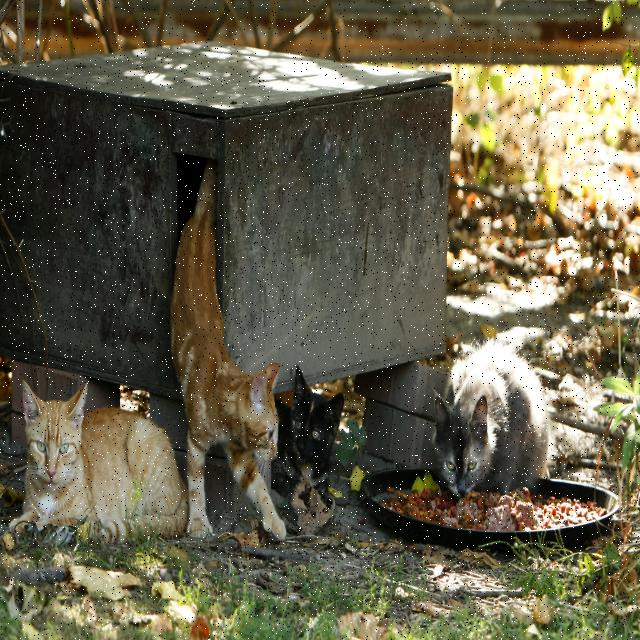cat: (170, 161, 285, 538), (10, 381, 189, 542), (434, 342, 548, 497), (271, 367, 344, 507)
